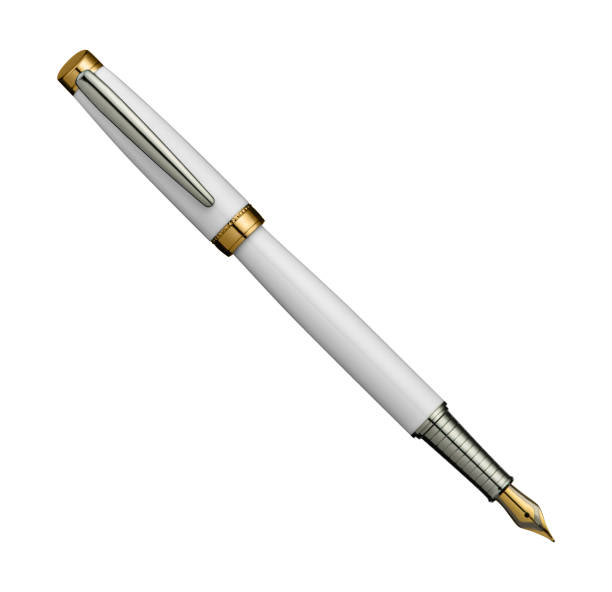pen: (48, 41, 565, 555)
